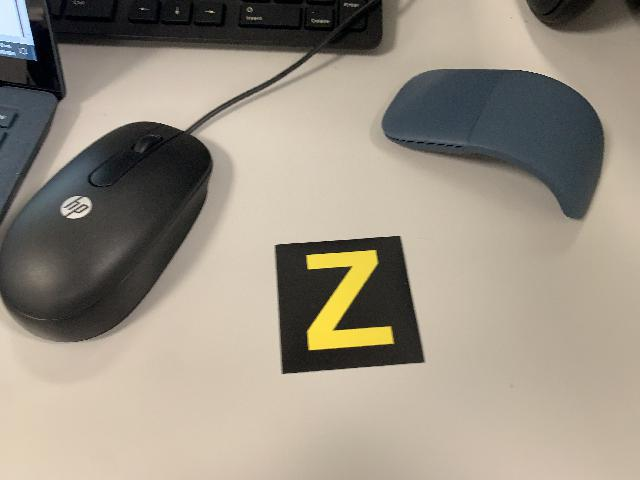z: (273, 233, 428, 378)
